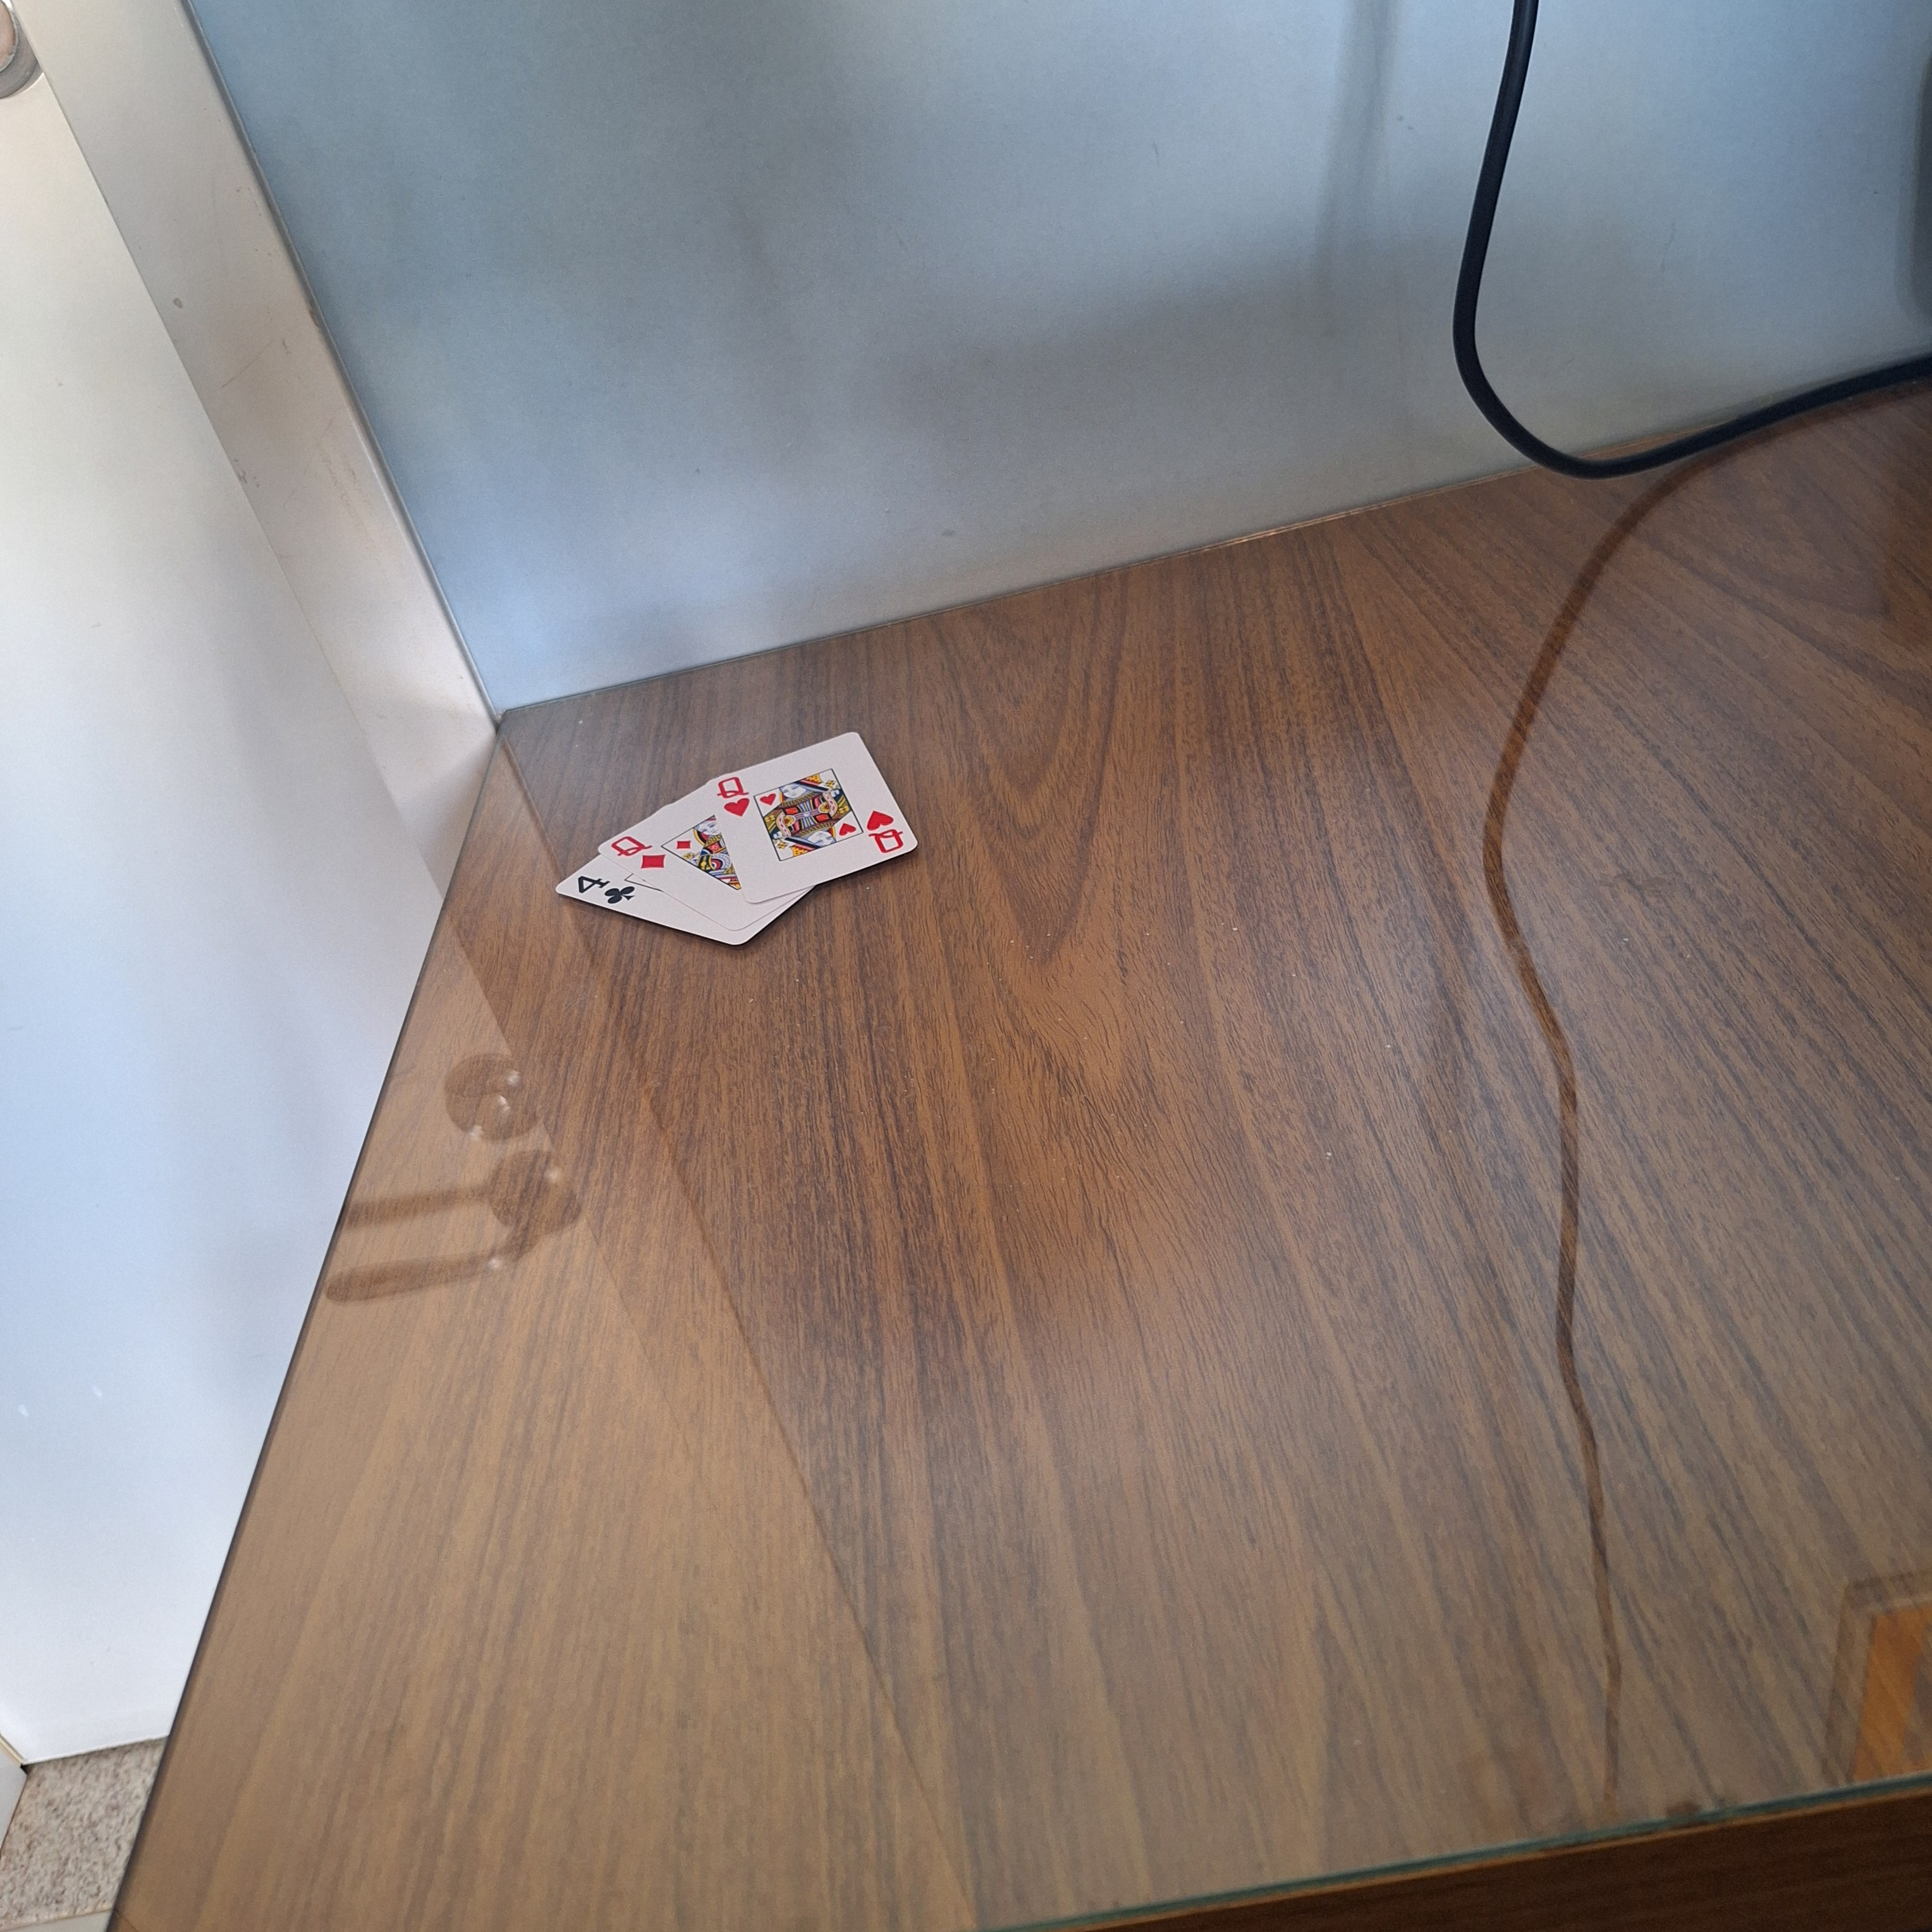4P: (570, 869, 637, 909)
QC: (862, 800, 915, 862), (715, 771, 759, 824)
QO: (609, 830, 671, 874)
